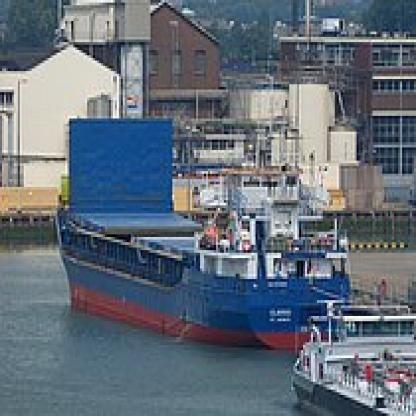Tanker: (44, 92, 356, 356)
